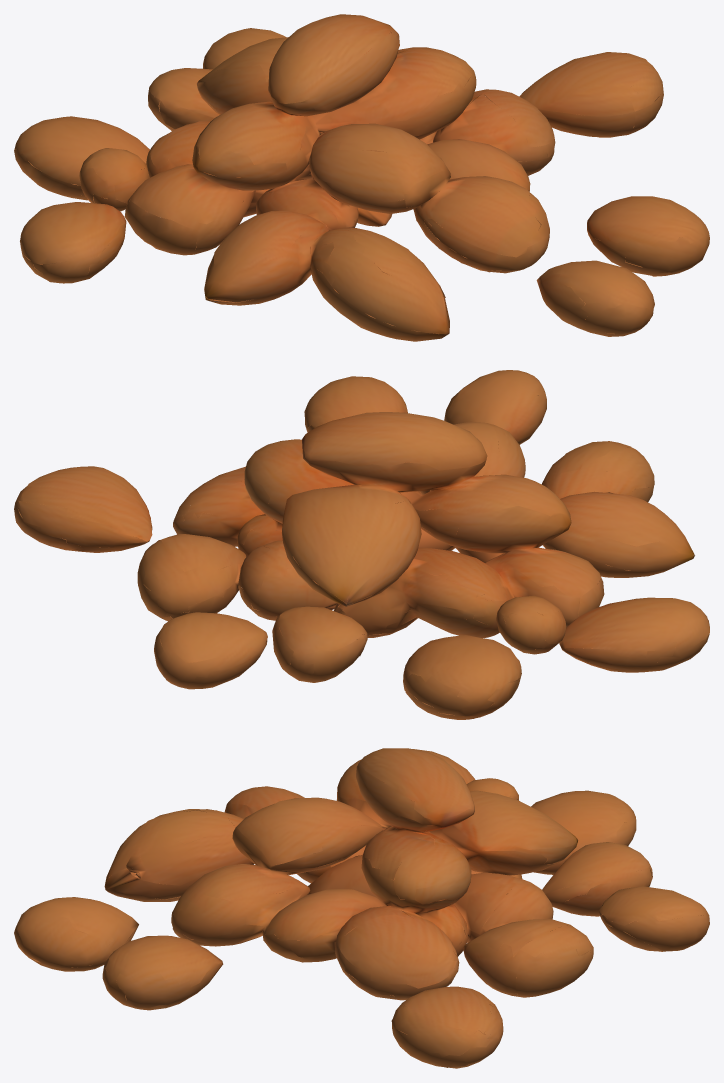
3 views of the same model, one above another, from view 1: azimuth 30°, elevation 25°; view 2: azimuth 150°, elevation 25°; view 3: azimuth 270°, elevation 25° (orthographic). The views are drawn at different scales.
Parts seen in each view (by area): view 1: material; view 2: material; view 3: material.
Part boxes in pixels (x1=…): material: x1=14, y1=14, x2=709, y2=341; material: x1=14, y1=370, x2=709, y2=719; material: x1=14, y1=748, x2=709, y2=1068.
Bounding box in the file's own units: 1.88 × 0.528 × 1.9.
Materials: 1 (1 with a texture image).
